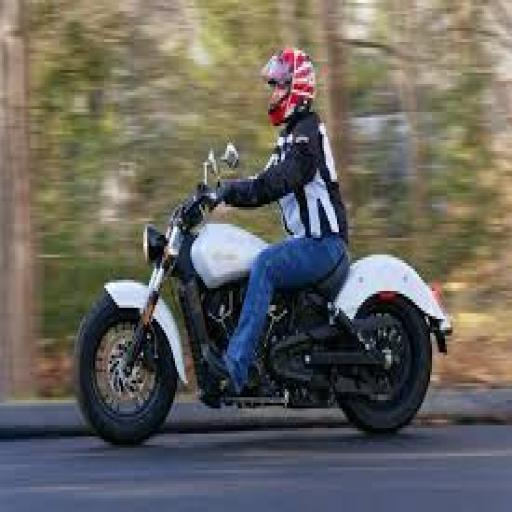helmet: (72, 140, 452, 442), (194, 42, 350, 397), (259, 45, 316, 126)
